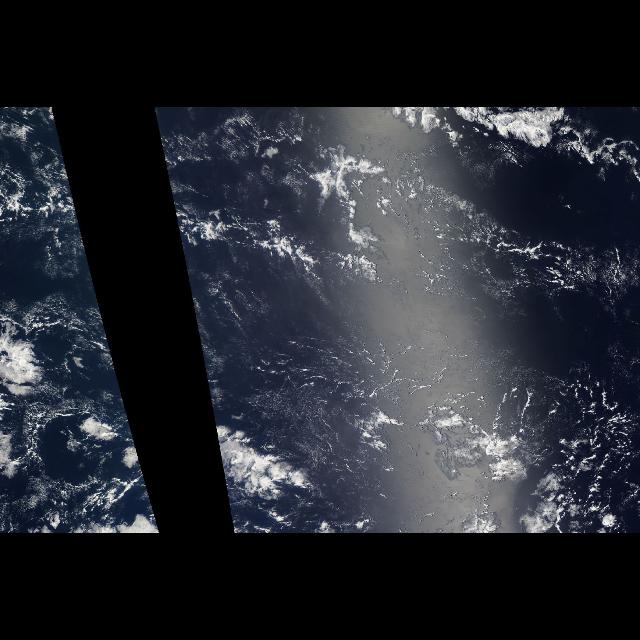Sugar: (203, 260, 633, 506), (36, 232, 122, 406)
